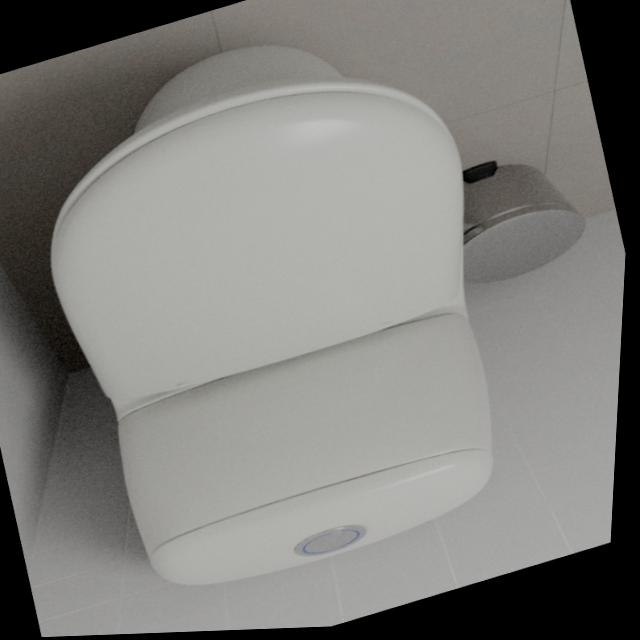toilet: (0, 0, 562, 625)
